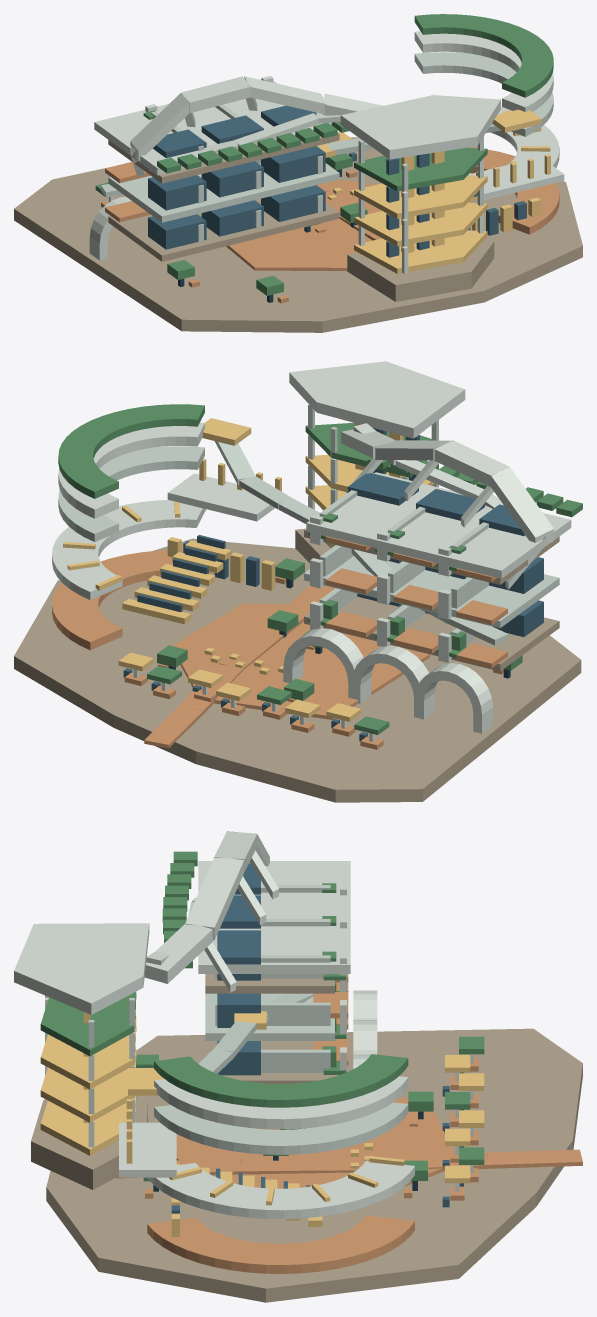
File: a40_section.obj
3 renders of one model, top to bottom at view 1: azimuth 30°, elevation 25°; view 2: azimuth 150°, elevation 25°; view 3: azimuth 270°, elevation 25°, orthographic. The views are drawn at different scales.
Size of the model in its own units: 437 by 194 by 404.
